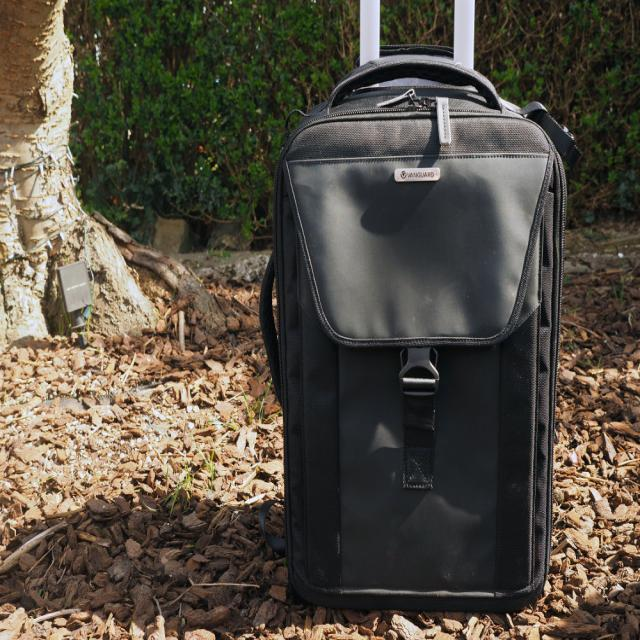Backpacks: (259, 52, 579, 613)
